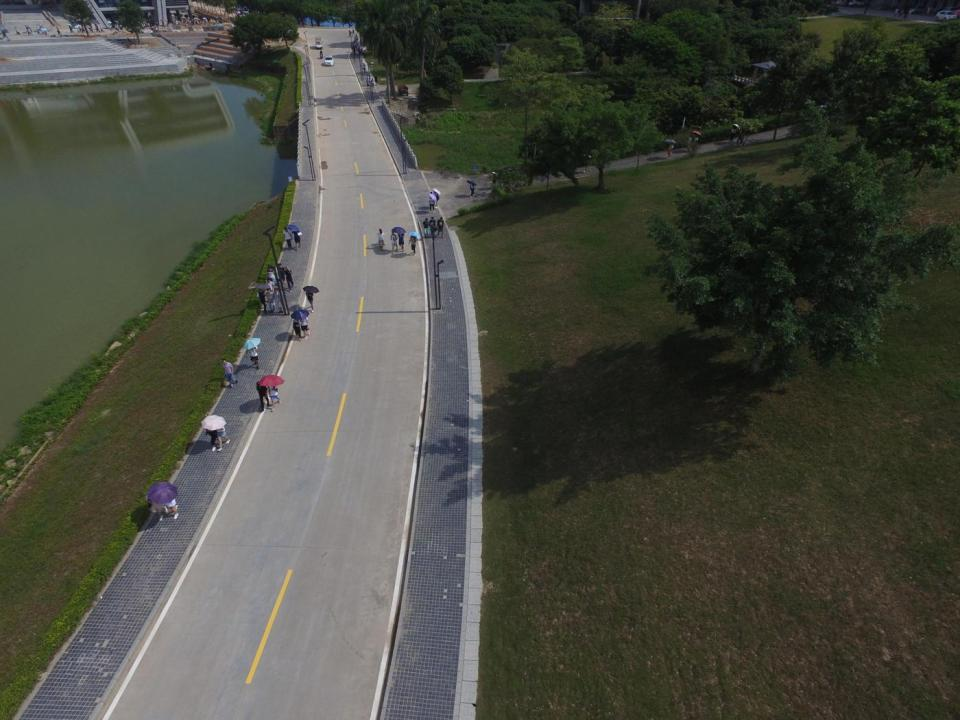car: (934, 10, 958, 23), (324, 55, 334, 66)
truck: (315, 36, 323, 50)
